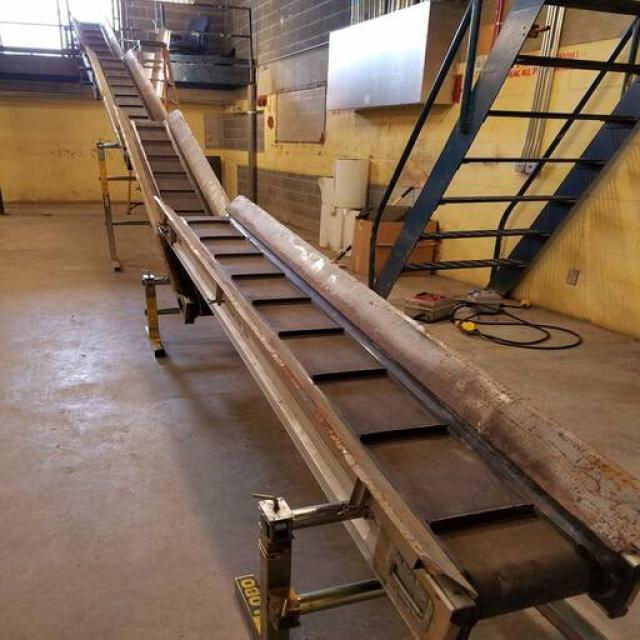conveyor: (66, 12, 639, 638)
